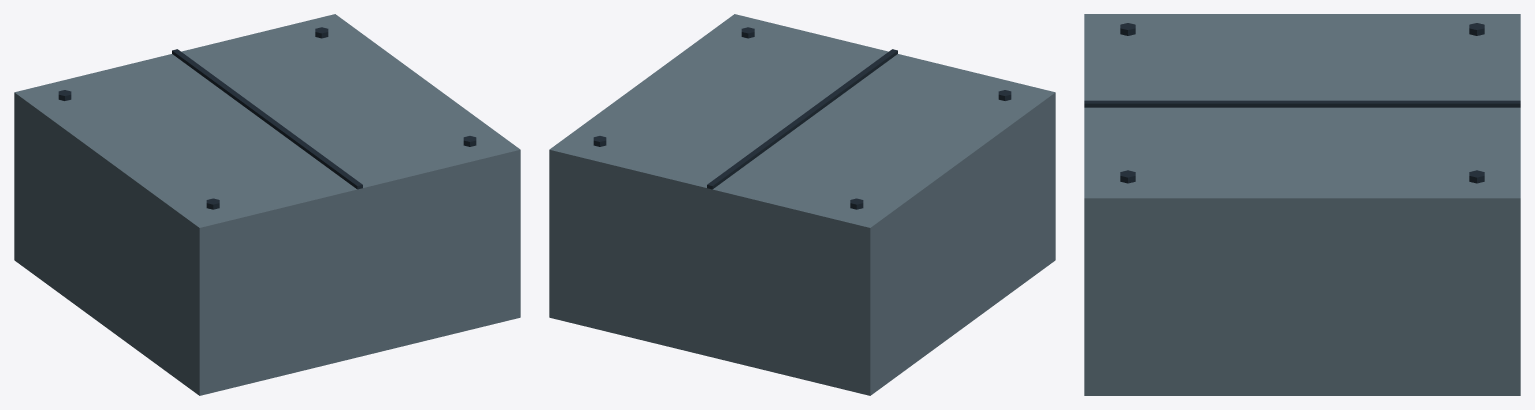
Rendered from terrain-metal-block.lod0.glb.
The picture shows the model from 3 angles, left to right: view 1: azimuth 30°, elevation 25°; view 2: azimuth 150°, elevation 25°; view 3: azimuth 270°, elevation 25°; orthographic projection. The views are drawn at different scales.
Visible parts, largest first — view 1: terrain-metal-block__body; view 2: terrain-metal-block__body; view 3: terrain-metal-block__body.
Boxes of the visible parts, <box> form: terrain-metal-block__body: <box>14,14,520,395</box>; terrain-metal-block__body: <box>549,14,1055,395</box>; terrain-metal-block__body: <box>1084,14,1520,395</box>.
Bounding box in the file's own units: 2 × 1.03 × 2.
